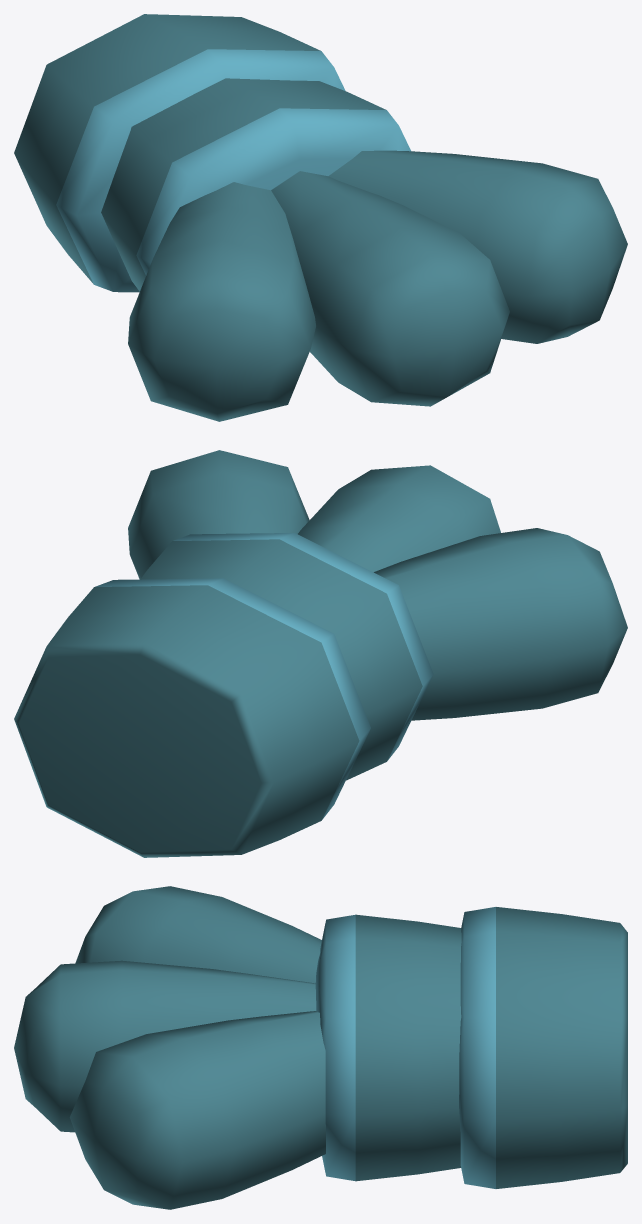
The model's file is Lobster_3_Half_1.fbx.
3 views of the same model, one above another, from view 1: azimuth 30°, elevation 25°; view 2: azimuth 150°, elevation 25°; view 3: azimuth 270°, elevation 25° (orthographic). The views are drawn at different scales.
Visible parts, largest first — view 1: Lobster_3_Half_1; view 2: Lobster_3_Half_1; view 3: Lobster_3_Half_1.
Part boxes in pixels (bbox=[...]): Lobster_3_Half_1: bbox=[14, 14, 627, 421]; Lobster_3_Half_1: bbox=[14, 450, 627, 857]; Lobster_3_Half_1: bbox=[14, 886, 627, 1209].
Size of the model in its own units: 22.02 by 10.41 by 24.96.
